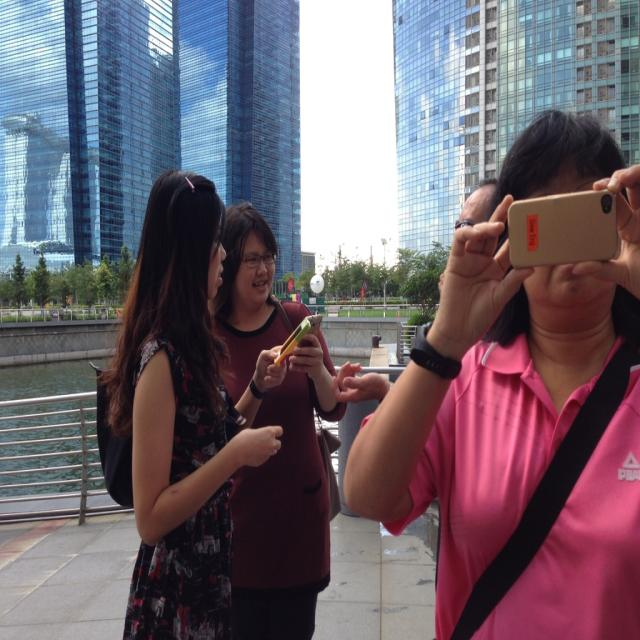Mobile-phone: (506, 188, 618, 270), (272, 317, 312, 366), (309, 312, 325, 339)
